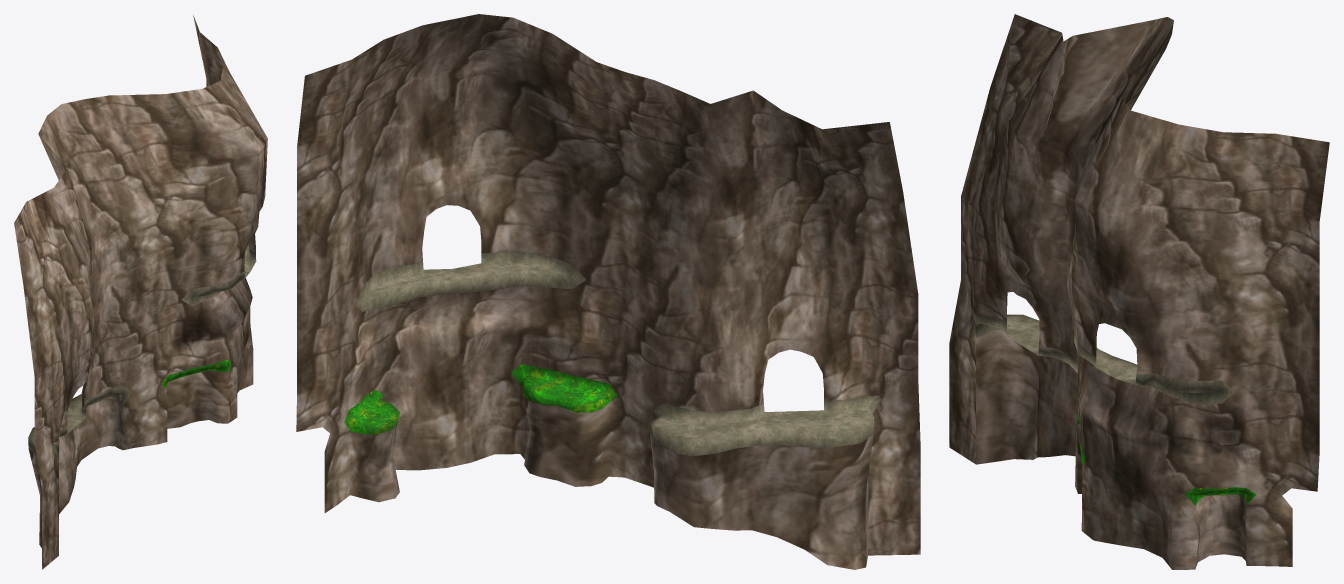
The model's file is EKH_ENTRANCE_PS_EN_WALL_CHUNK374__GX.fbx.
The picture shows the model from 3 angles, left to right: view 1: azimuth 30°, elevation 25°; view 2: azimuth 150°, elevation 25°; view 3: azimuth 270°, elevation 25°; orthographic projection. The views are drawn at different scales.
Parts seen in each view (by area): view 1: EKH_ENTRANCE_PS_EN_WALL_CHUNK374__GX; view 2: EKH_ENTRANCE_PS_EN_WALL_CHUNK374__GX; view 3: EKH_ENTRANCE_PS_EN_WALL_CHUNK374__GX.
Part boxes in pixels (x1,y1,x2,y2): EKH_ENTRANCE_PS_EN_WALL_CHUNK374__GX: (14, 15, 267, 569); EKH_ENTRANCE_PS_EN_WALL_CHUNK374__GX: (296, 14, 920, 569); EKH_ENTRANCE_PS_EN_WALL_CHUNK374__GX: (949, 14, 1329, 569).
Bounding box in the file's own units: 155397 × 181449 × 126152.
Materials: 3 (3 with a texture image).
